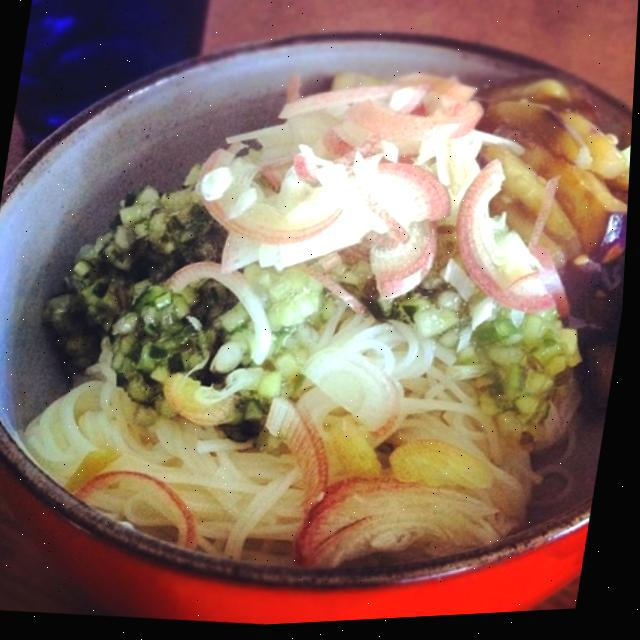面条主食: (0, 9, 639, 622)
